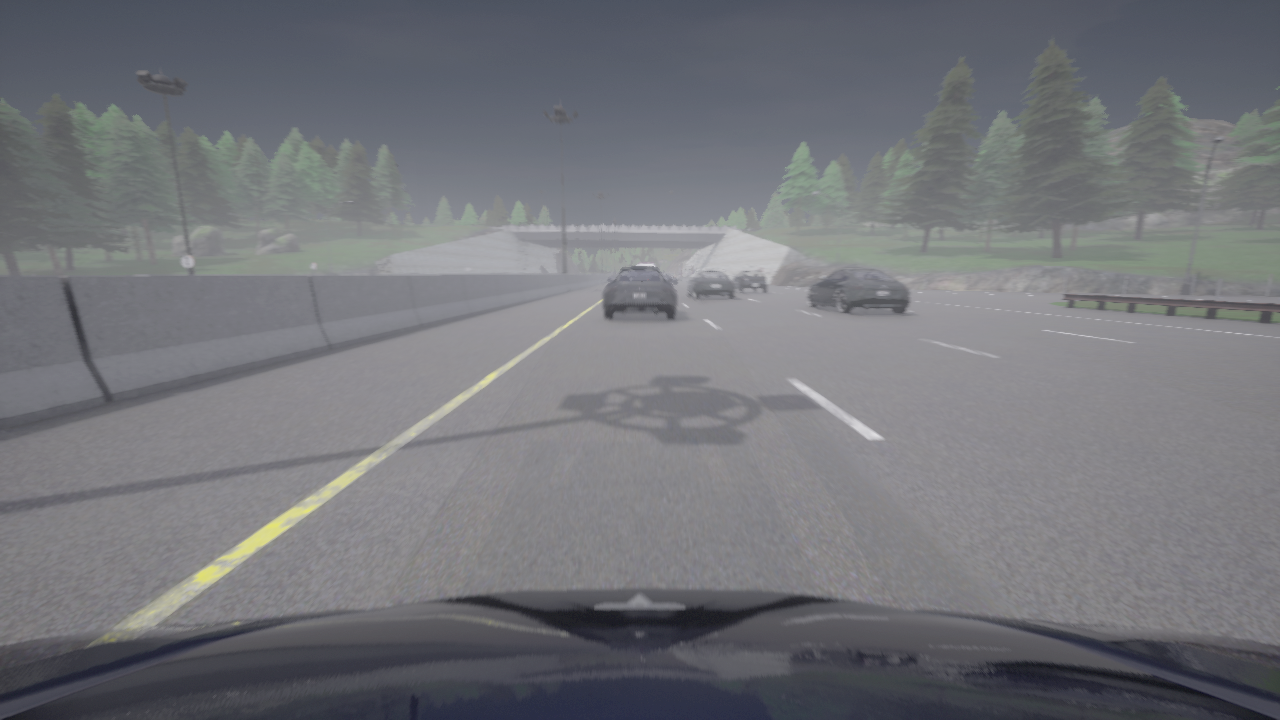cyclist: (0, 588, 1279, 719), (806, 269, 910, 313), (603, 268, 676, 319), (687, 270, 735, 299), (732, 270, 767, 293), (663, 272, 677, 283), (676, 268, 692, 277), (634, 263, 655, 267)
